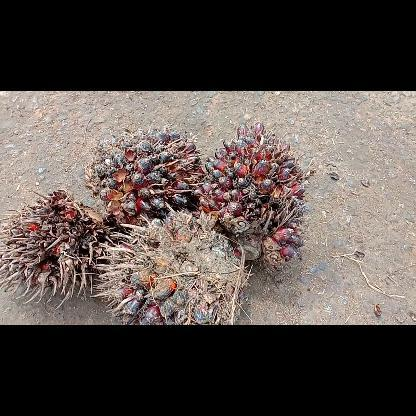TBS abnormal: (93, 210, 248, 324), (199, 122, 311, 266), (0, 190, 114, 308), (86, 126, 202, 226)
